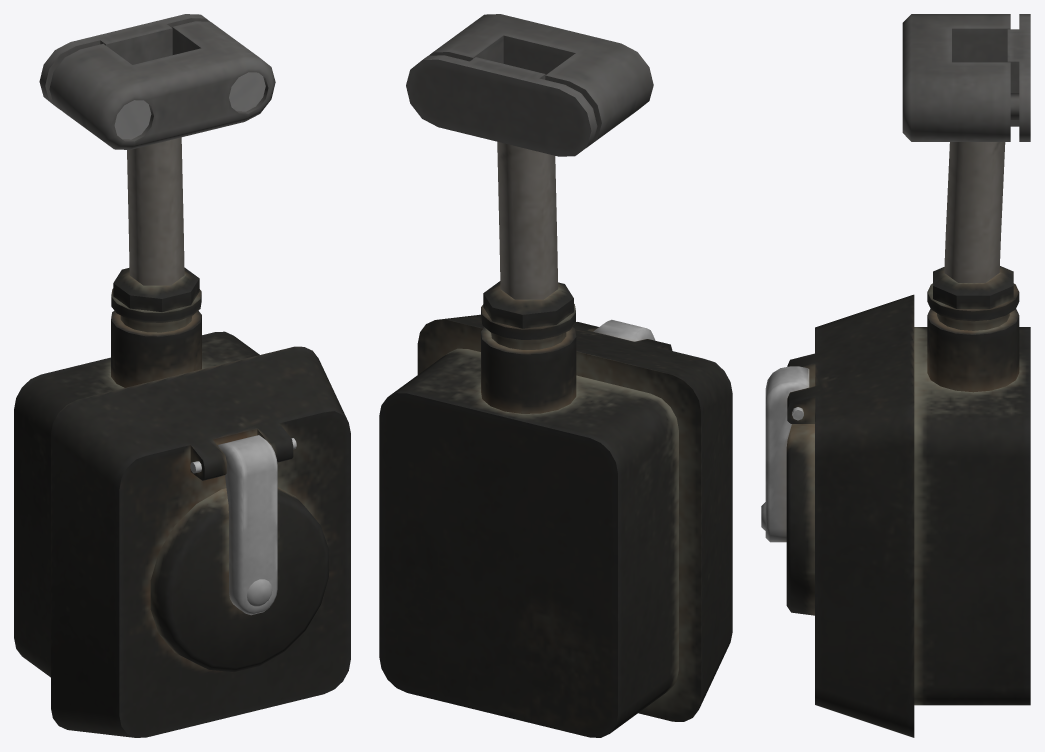
File: cable_plug_covered.glb
3 renders of one model, left to right at view 1: azimuth 30°, elevation 25°; view 2: azimuth 150°, elevation 25°; view 3: azimuth 270°, elevation 25°, orthographic. The views are drawn at different scales.
Visible parts, largest first — view 1: cable_plug_covered.001; view 2: cable_plug_covered.001; view 3: cable_plug_covered.001.
Boxes of the visible parts, x1,y1,x2,y2 form: cable_plug_covered.001: (14,14,350,737); cable_plug_covered.001: (379,14,732,737); cable_plug_covered.001: (761,14,1030,737).
Size of the model in its own units: 0.0635 by 0.1424 by 0.0546.
1 material, 1 textured.
